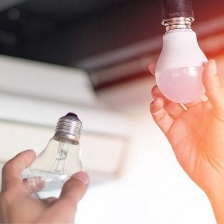light_bulb: (24, 106, 94, 211), (149, 5, 211, 110)
